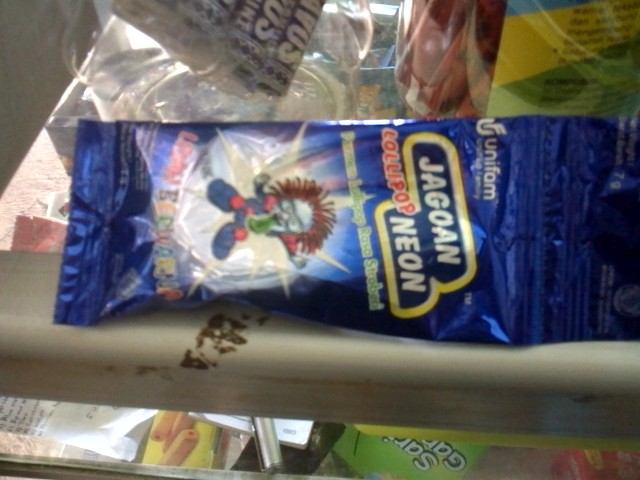jagoan neon: (51, 116, 551, 345)
